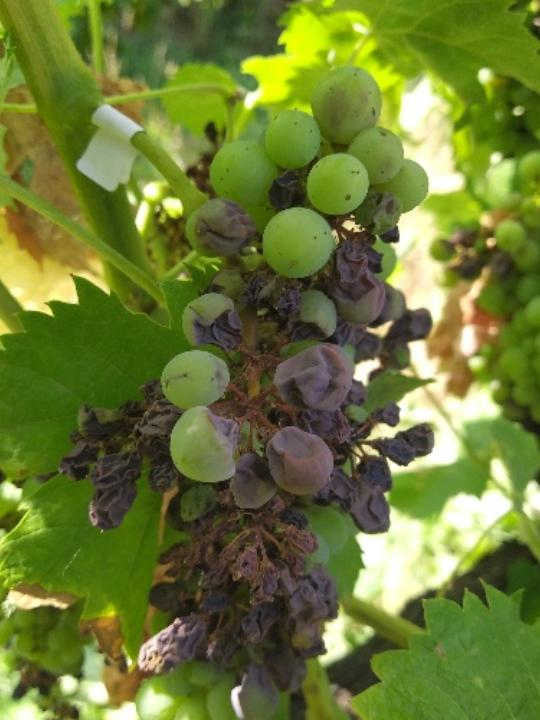grape: (54, 64, 443, 720)
